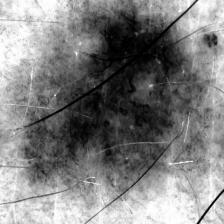Benign Marking or Mole: (33, 12, 195, 172)
